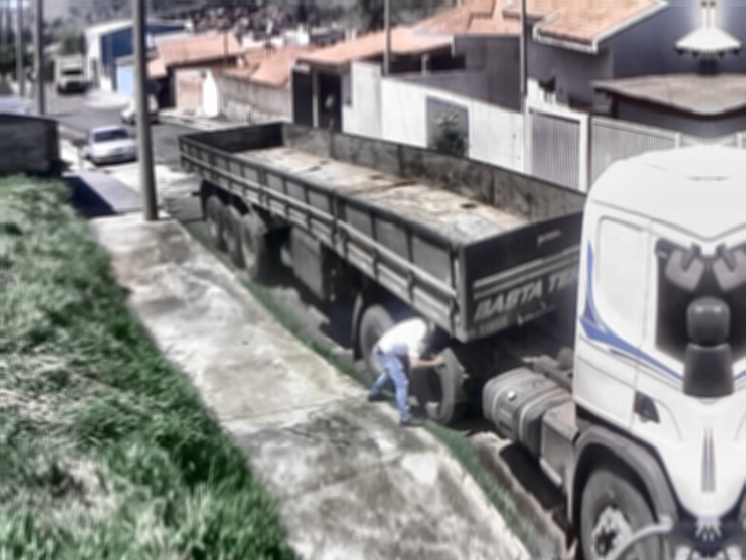person: (367, 316, 444, 428)
